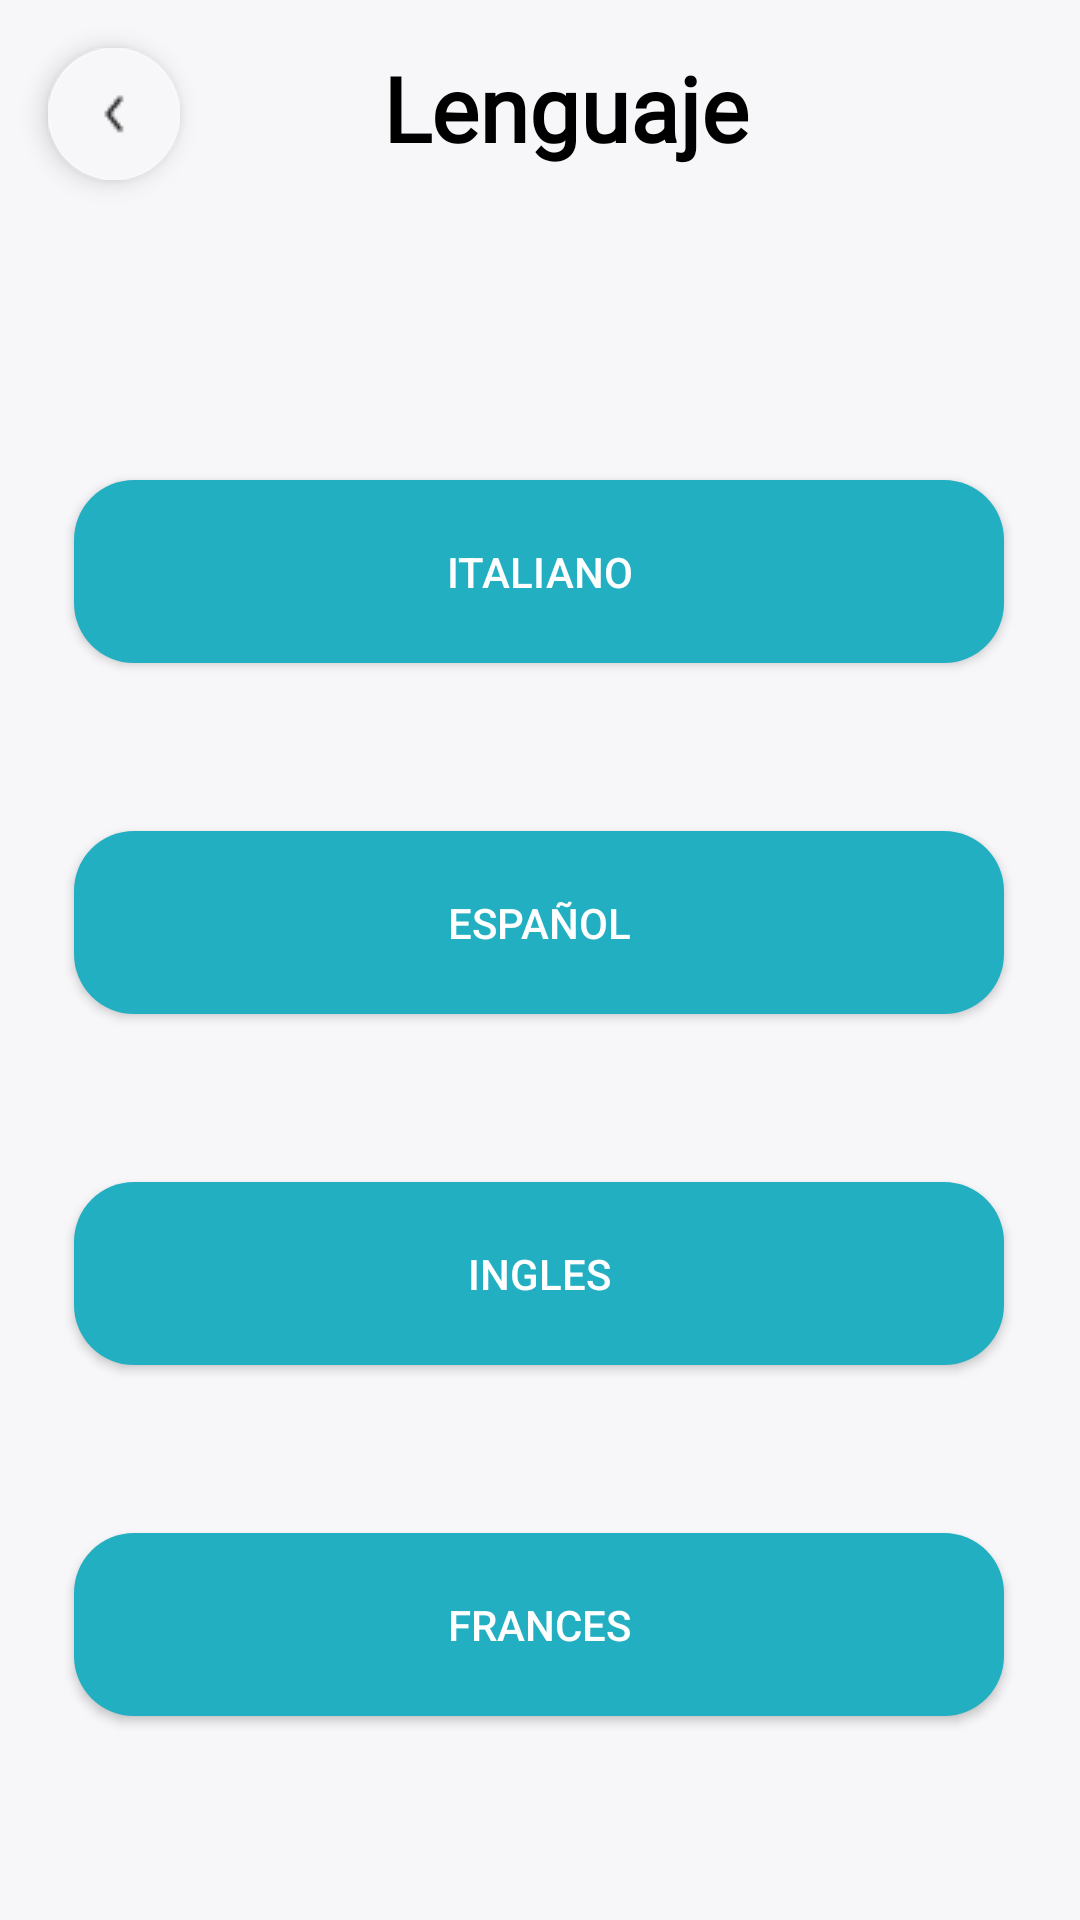

Point at icon controls on the screen. Image size 1080×1920, points as [x,y].
arrow back: [114,114]
